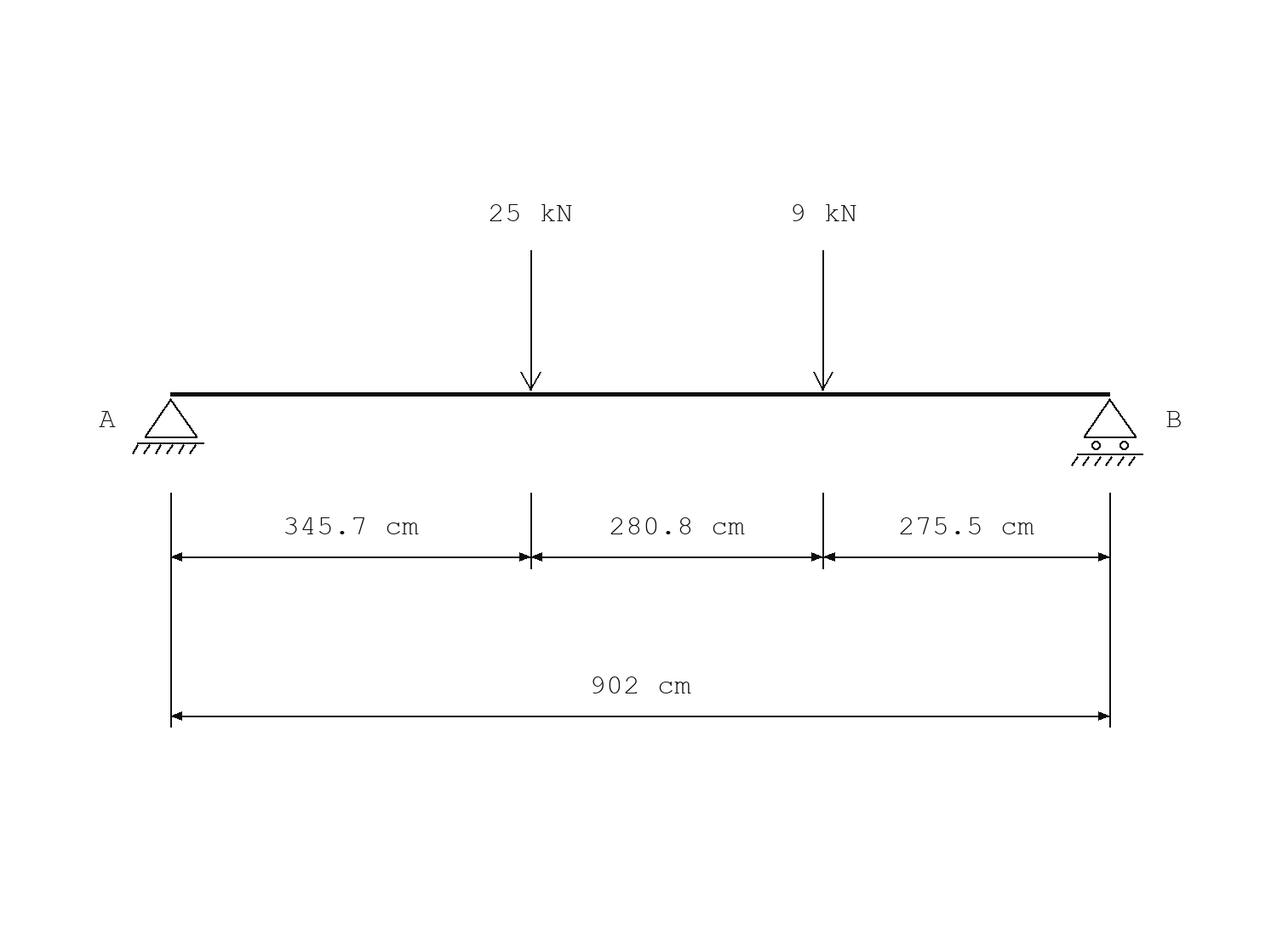pin_support: (132, 398, 204, 454)
point_load: (520, 250, 541, 391), (813, 250, 833, 391)
roller_support: (1071, 398, 1143, 466)
